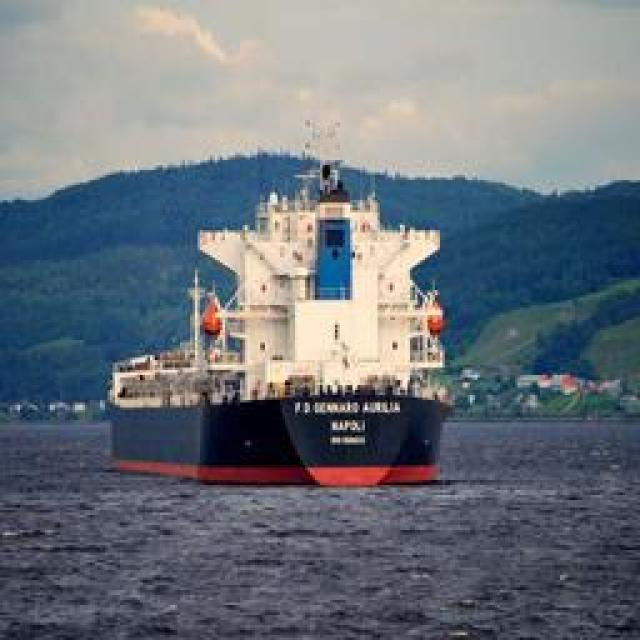CIV_Ship: (109, 144, 454, 482)
